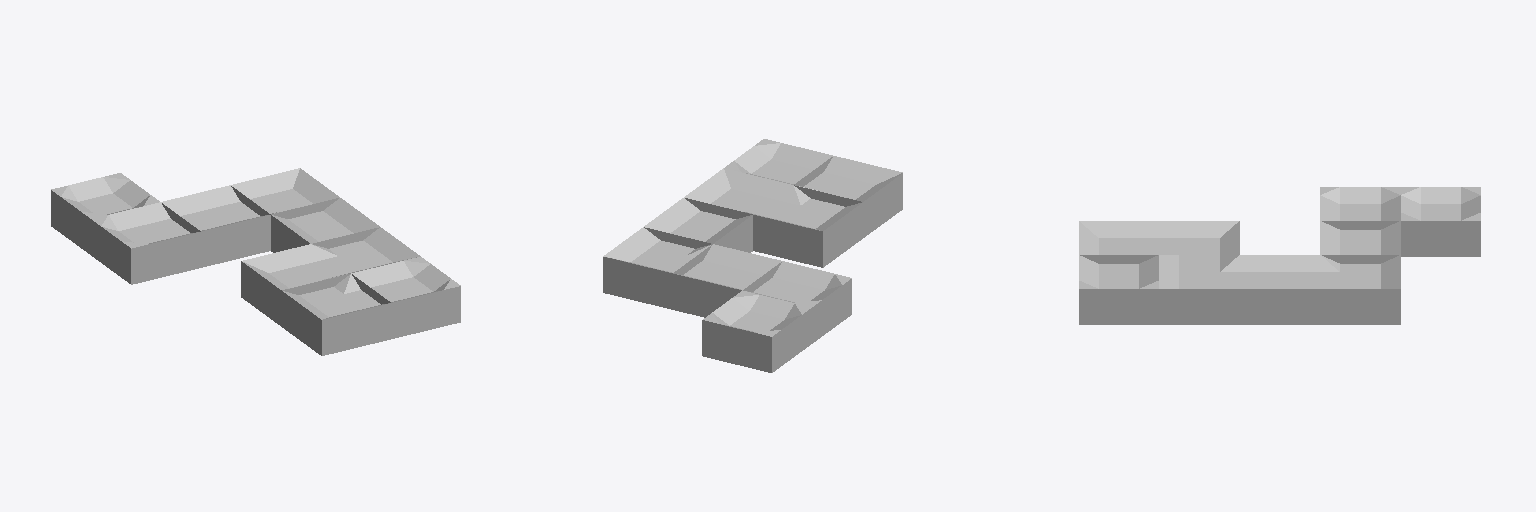
File: 76f_path.obj
3 renders of one model, left to right at view 1: azimuth 30°, elevation 25°; view 2: azimuth 150°, elevation 25°; view 3: azimuth 270°, elevation 25°, orthographic.
Parts seen in each view (by area): view 1: foil.ending.1.3_ending.603, foil.corner.2.0_corner.1500, foil.through.2.3_through.308, foil.ending.3.0_ending.604, foil.corner.2.1_corner.1501, foil.hole.1.4_Cube.303, foil.through.3.2_through.309, foil.corner.3.3_corner.1503, foil.corner.3.1_corner.1502; view 2: foil.hole.1.4_Cube.303, foil.corner.2.1_corner.1501, foil.corner.3.3_corner.1503, foil.through.2.3_through.308, foil.corner.2.0_corner.1500, foil.ending.1.3_ending.603, foil.through.3.2_through.309, foil.corner.3.1_corner.1502, foil.ending.3.0_ending.604; view 3: foil.hole.1.4_Cube.303, foil.through.3.2_through.309, foil.corner.3.3_corner.1503, foil.corner.3.1_corner.1502, foil.ending.3.0_ending.604, foil.corner.2.1_corner.1501, foil.corner.2.0_corner.1500, foil.through.2.3_through.308, foil.ending.1.3_ending.603.
Part boxes in pixels (bbox=[...]): foil.ending.1.3_ending.603: bbox=[91, 202, 200, 284]; foil.corner.2.0_corner.1500: bbox=[282, 274, 390, 355]; foil.through.2.3_through.308: bbox=[161, 185, 270, 267]; foil.ending.3.0_ending.604: bbox=[351, 257, 460, 338]; foil.corner.2.1_corner.1501: bbox=[241, 244, 349, 326]; foil.hole.1.4_Cube.303: bbox=[51, 173, 159, 254]; foil.through.3.2_through.309: bbox=[271, 198, 379, 252]; foil.corner.3.3_corner.1503: bbox=[231, 168, 339, 213]; foil.corner.3.1_corner.1502: bbox=[311, 227, 420, 274]; foil.hole.1.4_Cube.303: bbox=[702, 290, 811, 372]; foil.corner.2.1_corner.1501: bbox=[753, 185, 862, 267]; foil.corner.3.3_corner.1503: bbox=[603, 227, 711, 309]; foil.through.2.3_through.308: bbox=[673, 244, 781, 317]; foil.corner.2.0_corner.1500: bbox=[794, 156, 902, 237]; foil.ending.1.3_ending.603: bbox=[747, 261, 851, 343]; foil.through.3.2_through.309: bbox=[644, 198, 752, 252]; foil.corner.3.1_corner.1502: bbox=[684, 168, 792, 218]; foil.ending.3.0_ending.604: bbox=[725, 139, 832, 184]; foil.hole.1.4_Cube.303: bbox=[1401, 187, 1480, 256]; foil.through.3.2_through.309: bbox=[1240, 255, 1319, 324]; foil.corner.3.3_corner.1503: bbox=[1320, 255, 1400, 324]; foil.corner.3.1_corner.1502: bbox=[1159, 255, 1239, 324]; foil.ending.3.0_ending.604: bbox=[1079, 255, 1158, 324]; foil.corner.2.1_corner.1501: bbox=[1159, 221, 1239, 263]; foil.corner.2.0_corner.1500: bbox=[1079, 221, 1158, 263]; foil.through.2.3_through.308: bbox=[1320, 221, 1400, 263]; foil.ending.1.3_ending.603: bbox=[1320, 187, 1400, 220].
Size of the model in its own units: 6 by 1 by 10.